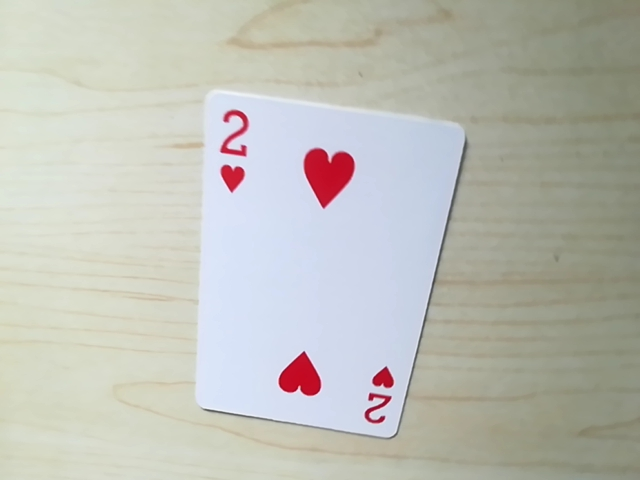hx 2: (209, 97, 257, 199), (359, 366, 401, 436)
